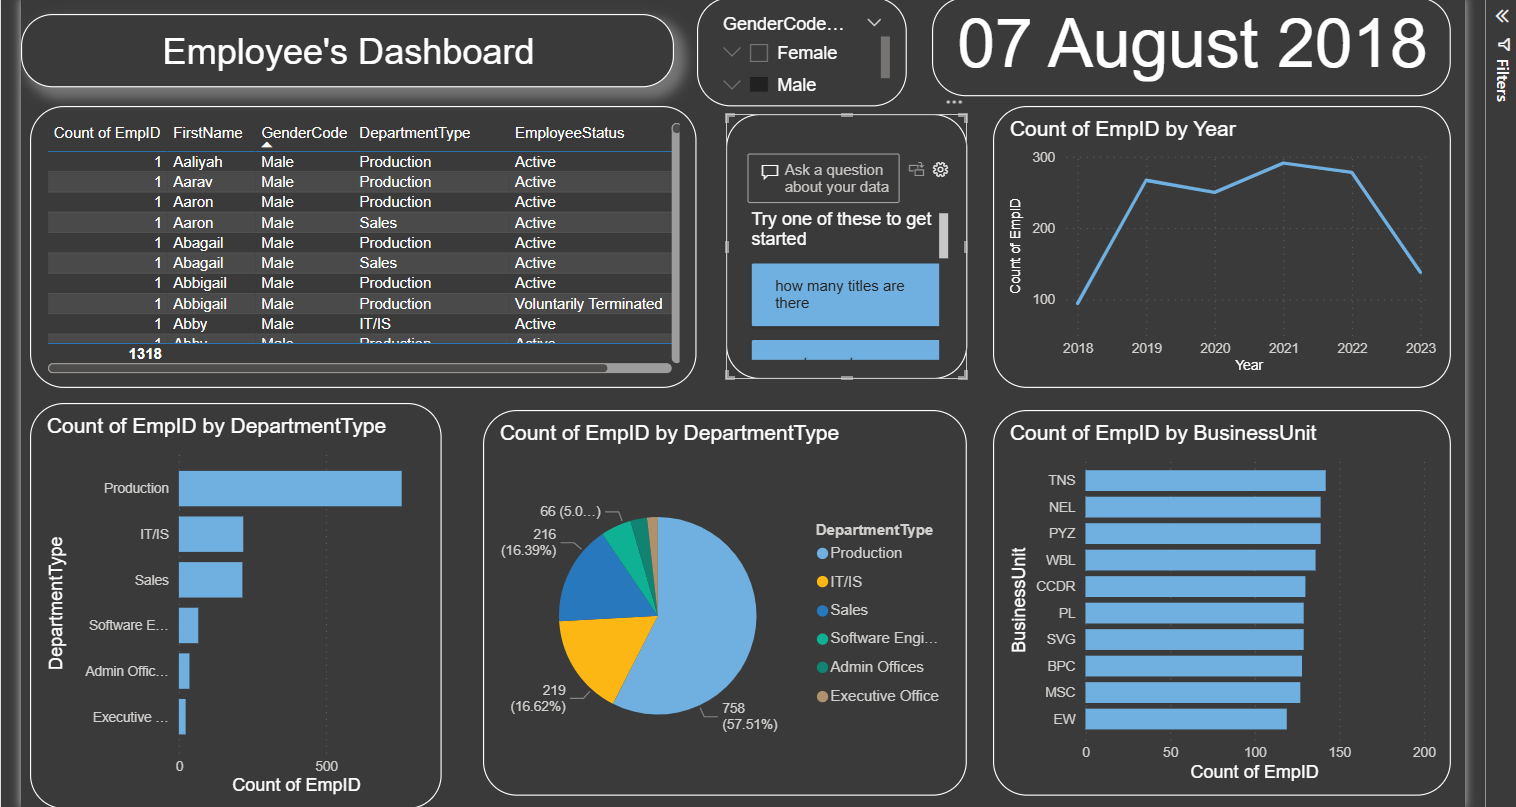

The page's visual inventory and layout, read from the dashboard file:
{"tool":"powerbi","page":{"name":"Page 1","canvas":[1280,720],"ordinal":0},"visuals":[{"type":"barChart","fields":{"Y":["CountNonNull(employee_data.EmpID)"],"Category":["employee_data.BusinessUnit"]},"box":[862,366,406,342],"z":0},{"type":"clusteredBarChart","fields":{"Y":["CountNonNull(employee_data.EmpID)"],"Category":["employee_data.DepartmentType"]},"box":[8.2,360,364.5,360],"z":1000},{"type":"lineChart","fields":{"Category":["employee_data.StartDate.Variation.Date Hierarchy.Year","employee_data.StartDate.Variation.Date Hierarchy.Quarter","employee_data.StartDate.Variation.Date Hierarchy.Month","employee_data.StartDate.Variation.Date Hierarchy.Day"],"Y":["CountNonNull(employee_data.EmpID)"]},"box":[862,97,406,250],"z":2000},{"type":"pieChart","fields":{"Category":["employee_data.DepartmentType"],"Y":["CountNonNull(employee_data.EmpID)"]},"box":[410,366,429,342],"z":3000},{"type":"tableEx","fields":{"Values":["CountNonNull(employee_data.EmpID)","employee_data.FirstName","employee_data.GenderCode","employee_data.DepartmentType","employee_data.EmployeeStatus","employee_data.PayZone"]},"box":[8,97,591,250],"z":4000},{"type":"slicer","fields":{"Values":["employee_data.GenderCode","employee_data.DepartmentType"]},"box":[599,0,186,97],"z":5000},{"type":"qnaVisual","box":[625,104,214,235],"z":6000},{"type":"card","fields":{"Values":["Min(employee_data.StartDate)"]},"box":[808,0,460,88],"z":7000},{"type":"textbox","box":[0,15,579,65],"z":8000}]}

Visuals, with their boxes in screenshot pixels (x1, y1, x2, y2):
barChart - CountNonNull(employee_data.EmpID) x employee_data.BusinessUnit: select_region(990, 419, 1454, 806)
clusteredBarChart - CountNonNull(employee_data.EmpID) x employee_data.DepartmentType: select_region(13, 412, 430, 806)
lineChart - employee_data.StartDate.Variation.Date Hierarchy.Year x employee_data.StartDate.Variation.Date Hierarchy.Quarter: select_region(990, 111, 1454, 397)
pieChart - employee_data.DepartmentType x CountNonNull(employee_data.EmpID): select_region(473, 419, 963, 806)
tableEx - CountNonNull(employee_data.EmpID) x employee_data.FirstName: select_region(13, 111, 689, 397)
slicer - employee_data.GenderCode x employee_data.DepartmentType: select_region(689, 0, 902, 111)
qnaVisual: select_region(719, 119, 963, 388)
card - Min(employee_data.StartDate): select_region(928, 0, 1454, 101)
textbox: select_region(4, 17, 666, 91)
